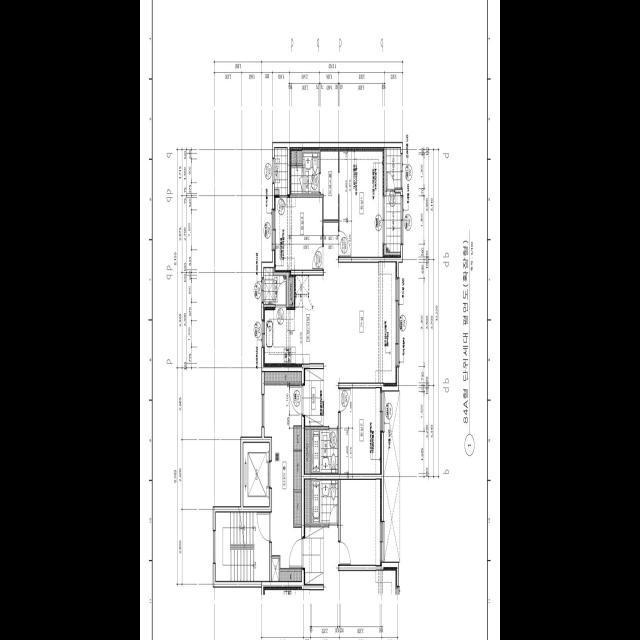background: (140, 0, 500, 640)
space_balconi: (386, 192, 400, 256)
space_bedroom: (340, 147, 384, 257), (274, 194, 322, 272), (341, 388, 381, 473)
space_dressroom: (321, 147, 338, 219)
space_elevator: (243, 442, 269, 505)
space_elevator_hall: (264, 384, 302, 568)
space_front: (303, 369, 324, 425)
space_kitchen: (264, 275, 324, 365)
space_living_room: (324, 222, 397, 425)
space_other: (386, 148, 401, 188), (264, 371, 302, 381), (294, 450, 302, 489), (304, 429, 310, 473), (295, 492, 302, 524), (280, 571, 301, 580), (294, 426, 302, 449), (290, 147, 301, 163), (272, 558, 279, 581), (289, 277, 293, 304)
space_outdoor_room: (274, 148, 287, 189)
space_staircase: (216, 512, 269, 581)
space_toilet: (290, 152, 319, 193), (311, 429, 338, 473)
